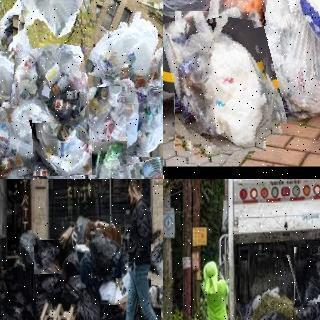Garbage: (166, 6, 275, 156), (10, 13, 98, 126), (246, 0, 320, 122), (84, 0, 163, 90), (33, 102, 105, 176), (89, 72, 143, 151), (0, 94, 46, 179), (19, 0, 94, 46), (125, 77, 163, 157), (87, 139, 148, 179), (27, 153, 118, 179), (0, 265, 41, 320), (290, 244, 320, 308), (88, 227, 124, 280), (123, 138, 163, 179), (0, 48, 21, 107), (211, 0, 271, 20), (72, 287, 102, 320), (15, 230, 42, 266), (34, 240, 61, 274), (149, 241, 163, 288), (243, 309, 292, 320), (290, 301, 317, 320), (101, 305, 122, 320)
